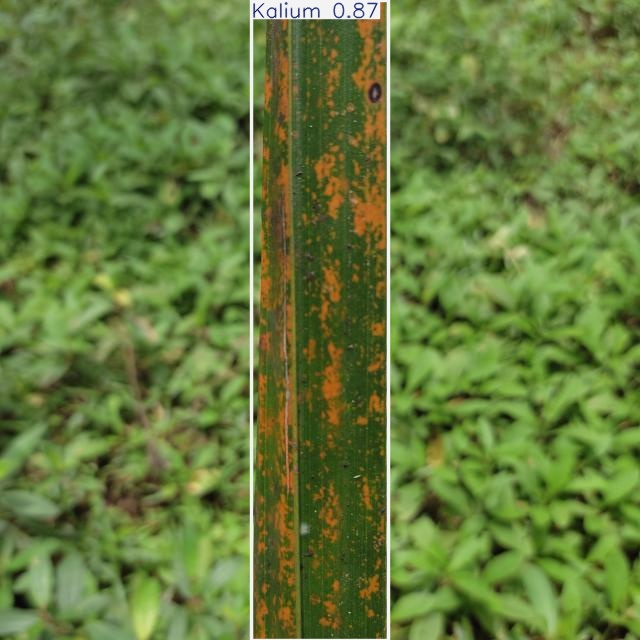Kalium: (252, 0, 389, 640)
